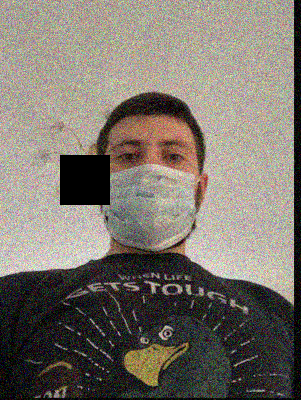with_mask: (102, 131, 199, 250)
